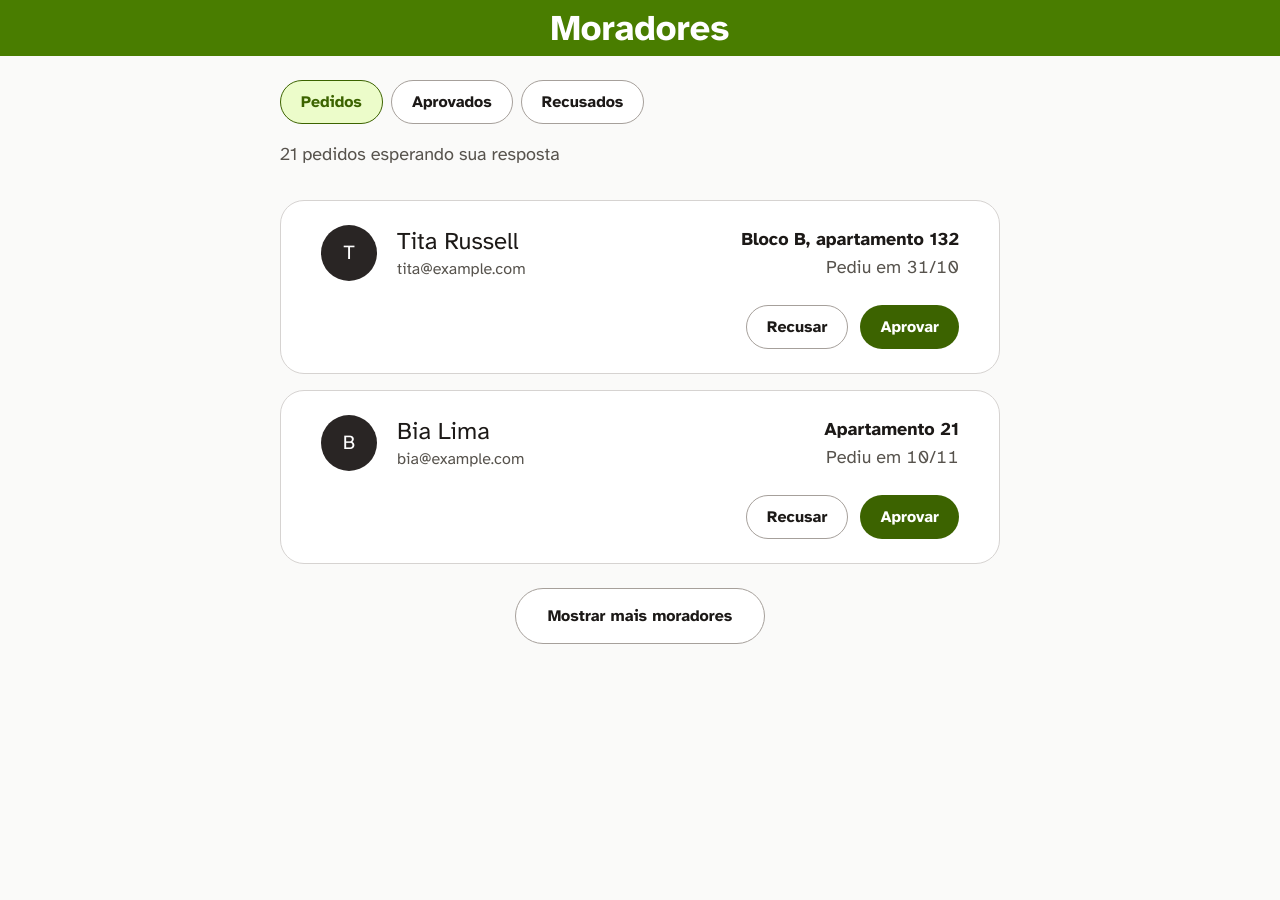
Test case: Residents, count after a page that failed › keeps counting the answers given when more requests fail to load
Click the button "Aprovar" below "Bloco B, apartamento 132": (910, 327) [860,305,959,349]
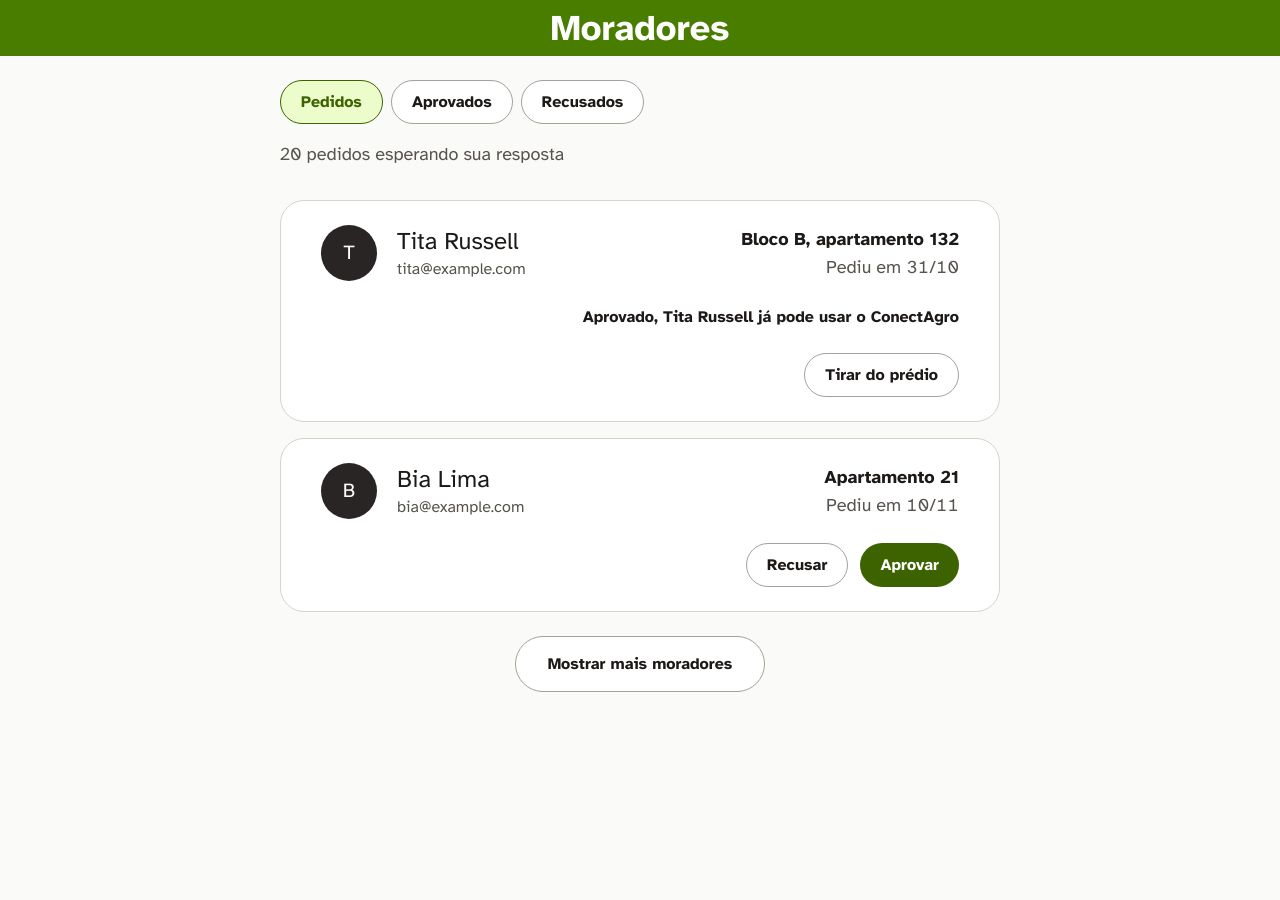
Result: the text "20 pedidos esperando sua resposta" is shown at [280,143,564,165]
Click the button "Mostrar mais moradores": (640, 664) [515,636,765,692]
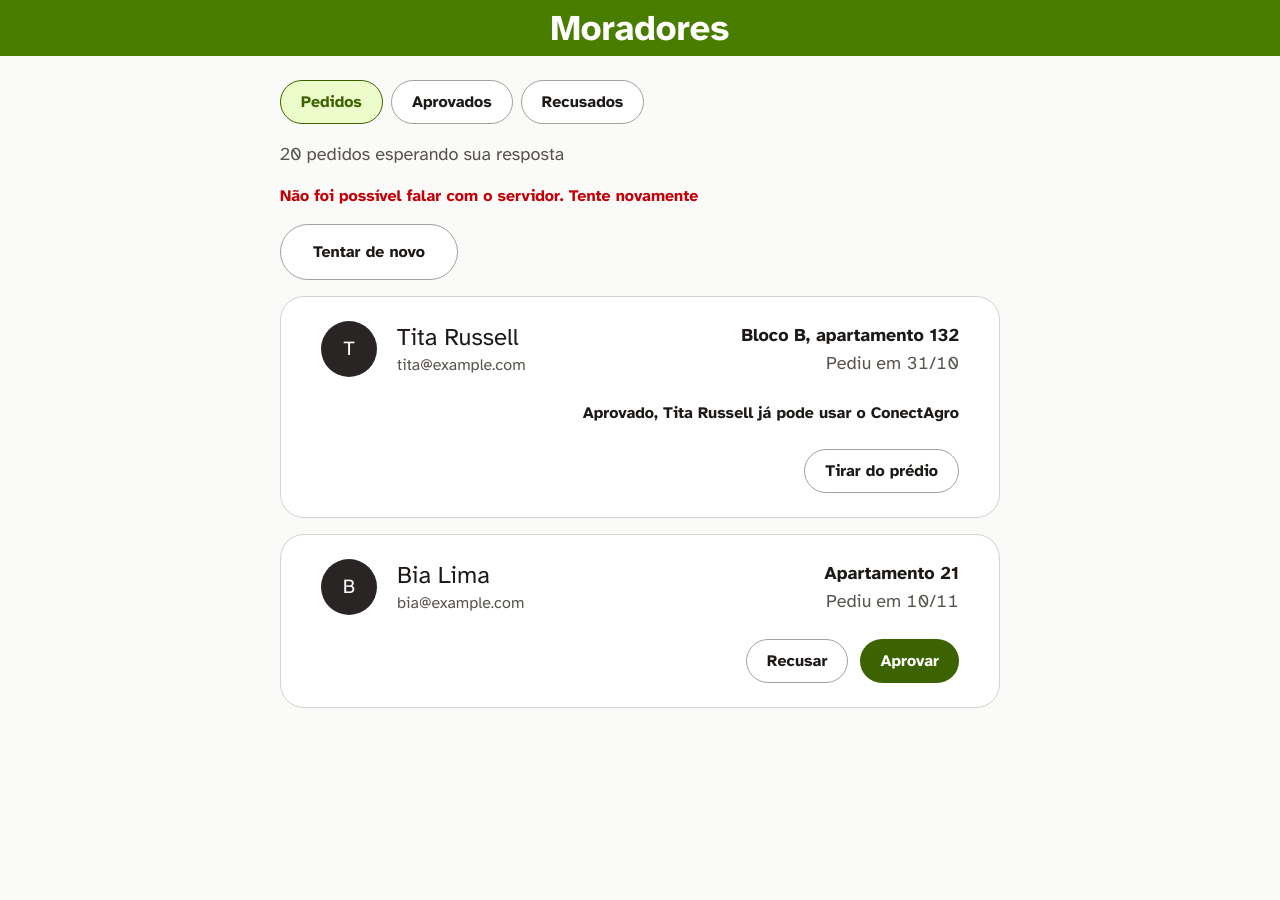
Result: the text "20 pedidos esperando sua resposta" is shown at [280,143,564,165]
Result: the message "Não foi possível falar com o servidor. Tente novamente" is shown at [280,186,698,206]
Click the button "Aprovar": (910, 661) [860,639,959,683]
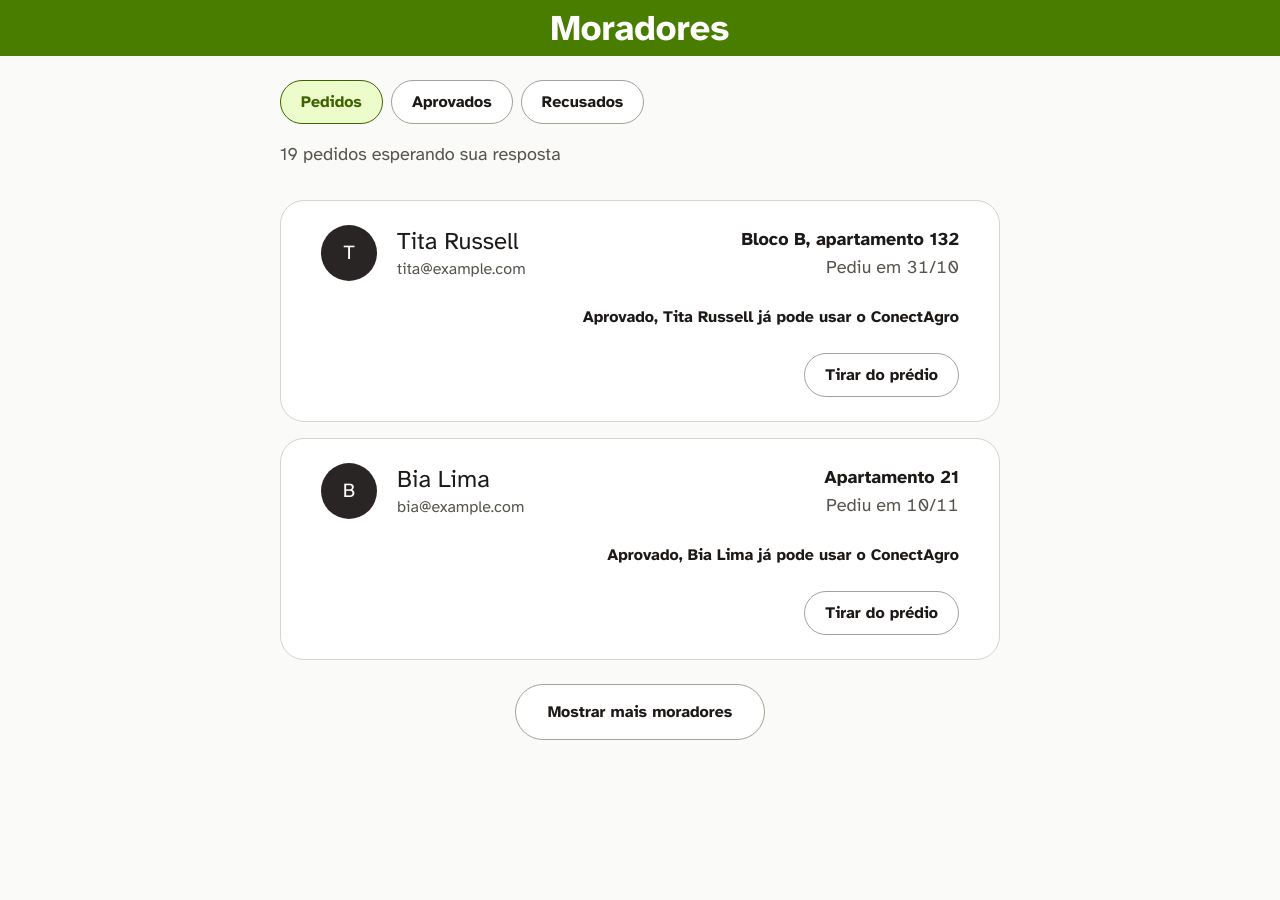
Result: the text "19 pedidos esperando sua resposta" is shown at [280,143,561,165]
